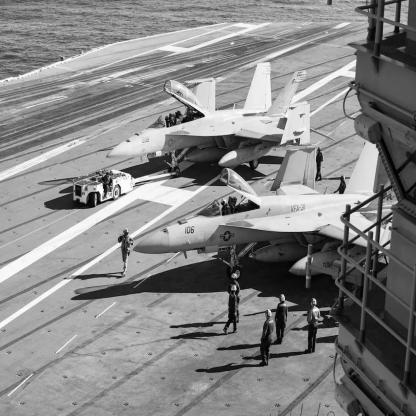F18: (133, 143, 399, 281), (107, 63, 311, 179)
